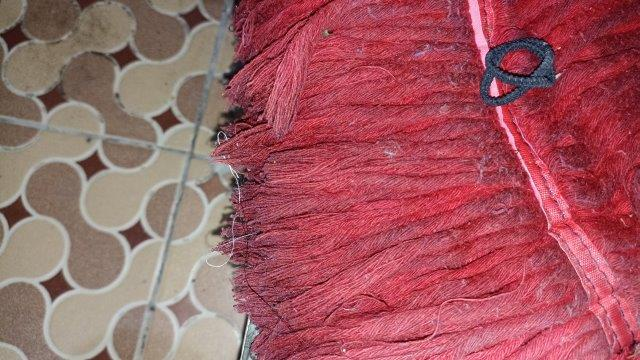karet: (480, 38, 554, 106)
